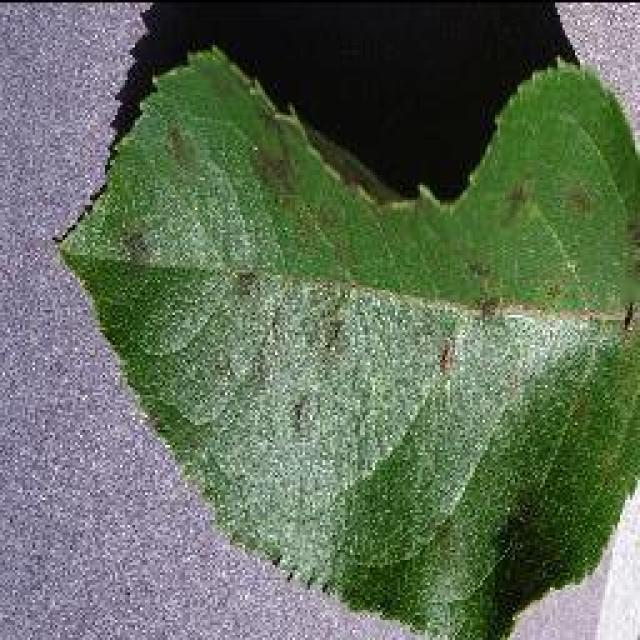apple scab disease: (52, 30, 638, 638)
